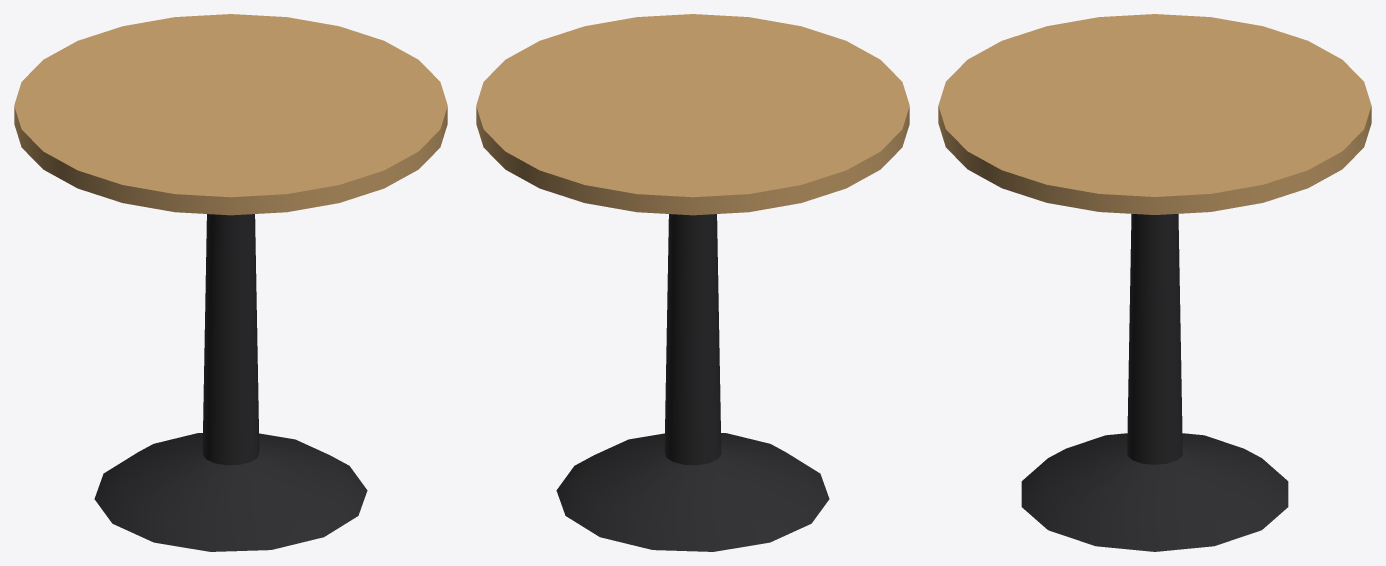
File: hospitality.pub.table.glb
3 renders of one model, left to right at view 1: azimuth 30°, elevation 25°; view 2: azimuth 150°, elevation 25°; view 3: azimuth 270°, elevation 25°, orthographic.
Parts seen in each view (by area): view 1: main__glulam, main__cast_iron; view 2: main__glulam, main__cast_iron; view 3: main__glulam, main__cast_iron.
Part boxes in pixels (bbox=[...]): main__glulam: bbox=[14, 14, 447, 215]; main__cast_iron: bbox=[94, 214, 367, 551]; main__glulam: bbox=[476, 14, 909, 215]; main__cast_iron: bbox=[556, 214, 829, 551]; main__glulam: bbox=[938, 14, 1371, 214]; main__cast_iron: bbox=[1021, 214, 1288, 551].
Bounding box in the file's own units: 0.76 × 0.7525 × 0.76.
